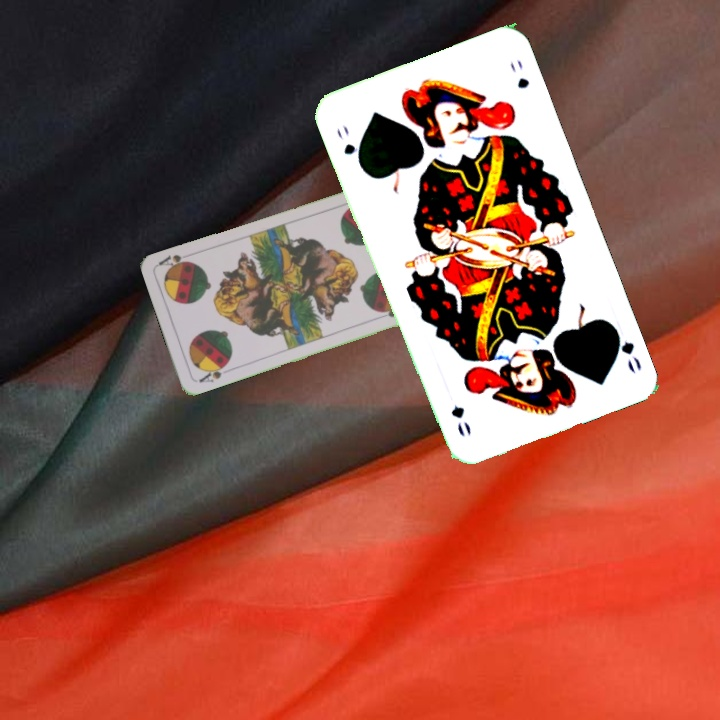GO: (608, 321, 644, 376), (332, 121, 365, 170)
SA: (194, 359, 230, 385)
